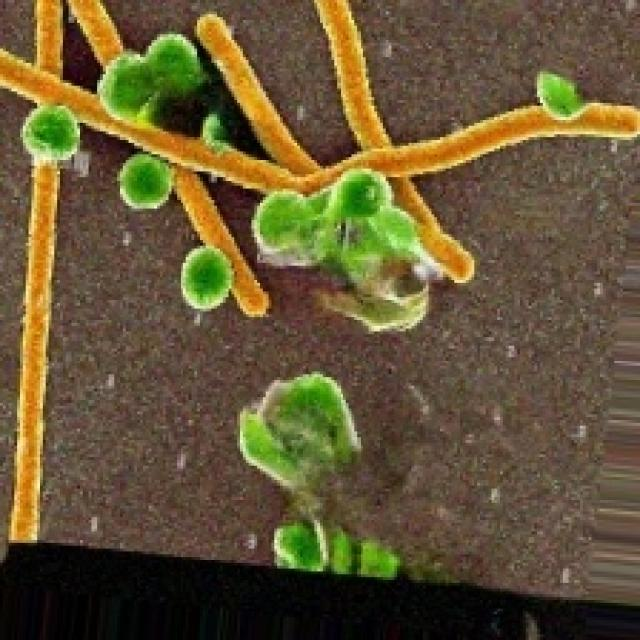Rod_bacteria: (0, 0, 637, 557)
